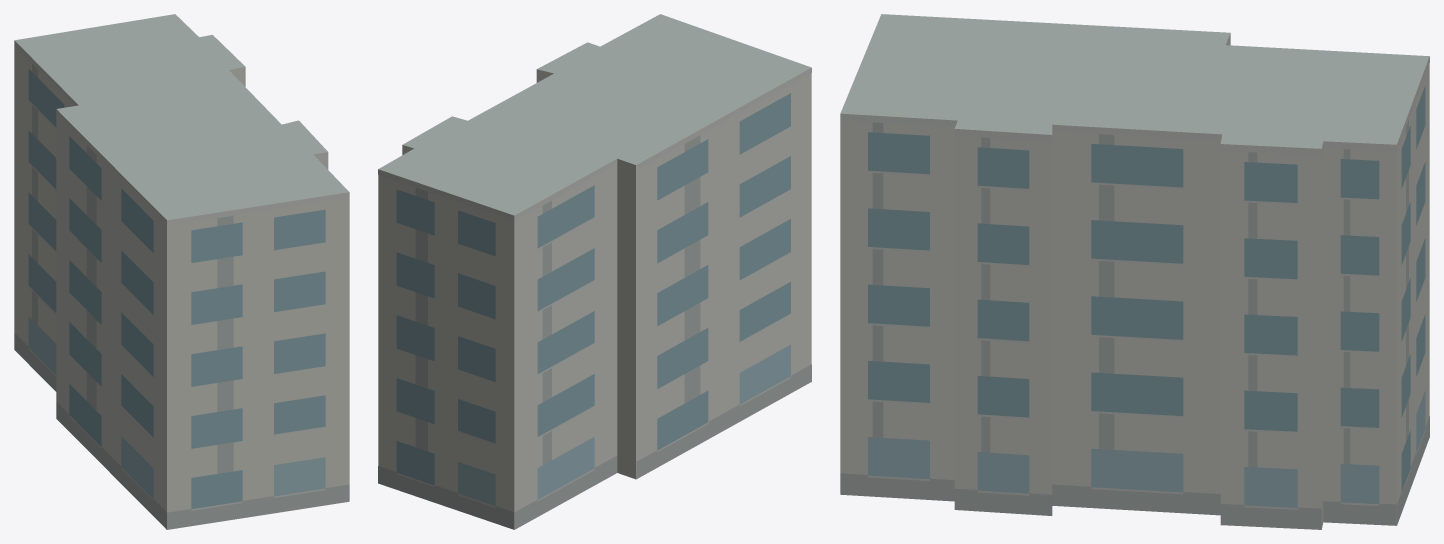
File: survey-upis-32567237.glb
3 renders of one model, left to right at view 1: azimuth 30°, elevation 25°; view 2: azimuth 150°, elevation 25°; view 3: azimuth 270°, elevation 25°, orthographic. The views are drawn at different scales.
Visible parts, largest first — view 1: survey-upis-32567237.tmp; view 2: survey-upis-32567237.tmp; view 3: survey-upis-32567237.tmp.
Part boxes in pixels (x1,y1,x2,y2): survey-upis-32567237.tmp: (14,14,349,529); survey-upis-32567237.tmp: (378,14,811,529); survey-upis-32567237.tmp: (840,14,1429,529).
Size of the model in its own units: 10.33 by 13.6 by 19.07.
